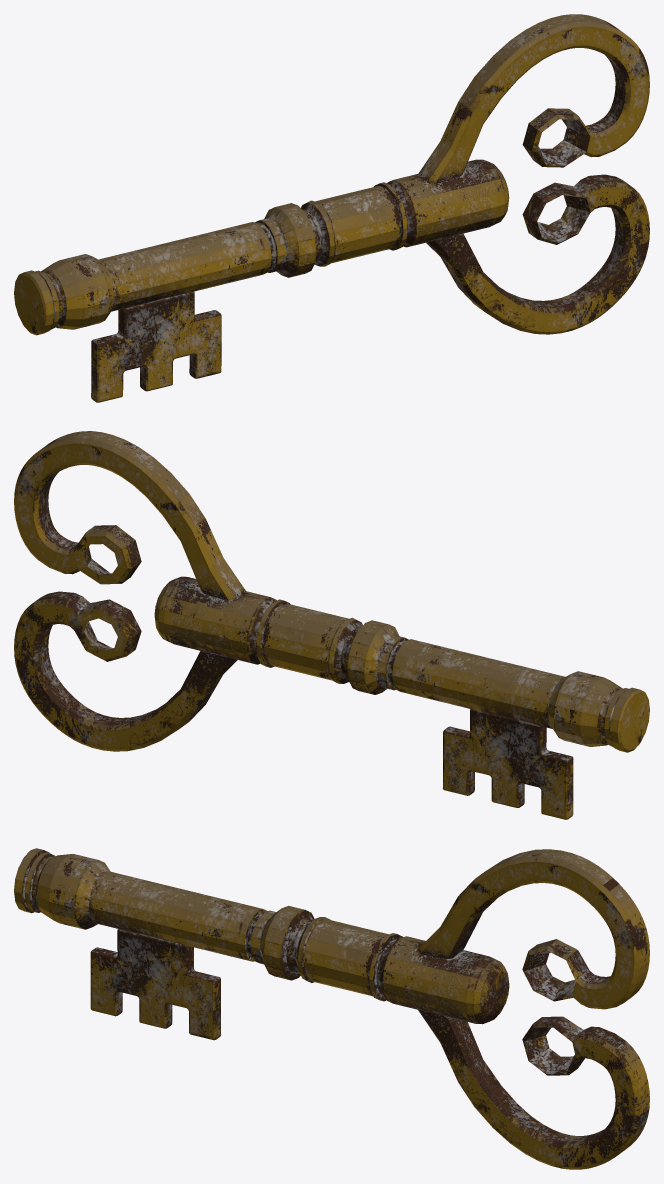
Rendered from key_m.fbx.
3 renders of one model, top to bottom at view 1: azimuth 30°, elevation 25°; view 2: azimuth 150°, elevation 25°; view 3: azimuth 330°, elevation 25°, orthographic.
Visible parts, largest first — view 1: key_m; view 2: key_m; view 3: key_m.
Boxes of the visible parts, x1=… form: key_m: x1=14, y1=14, x2=649, y2=402; key_m: x1=14, y1=431, x2=649, y2=819; key_m: x1=14, y1=848, x2=649, y2=1169.
Size of the model in its own units: 47.02 by 22.48 by 4.78.
